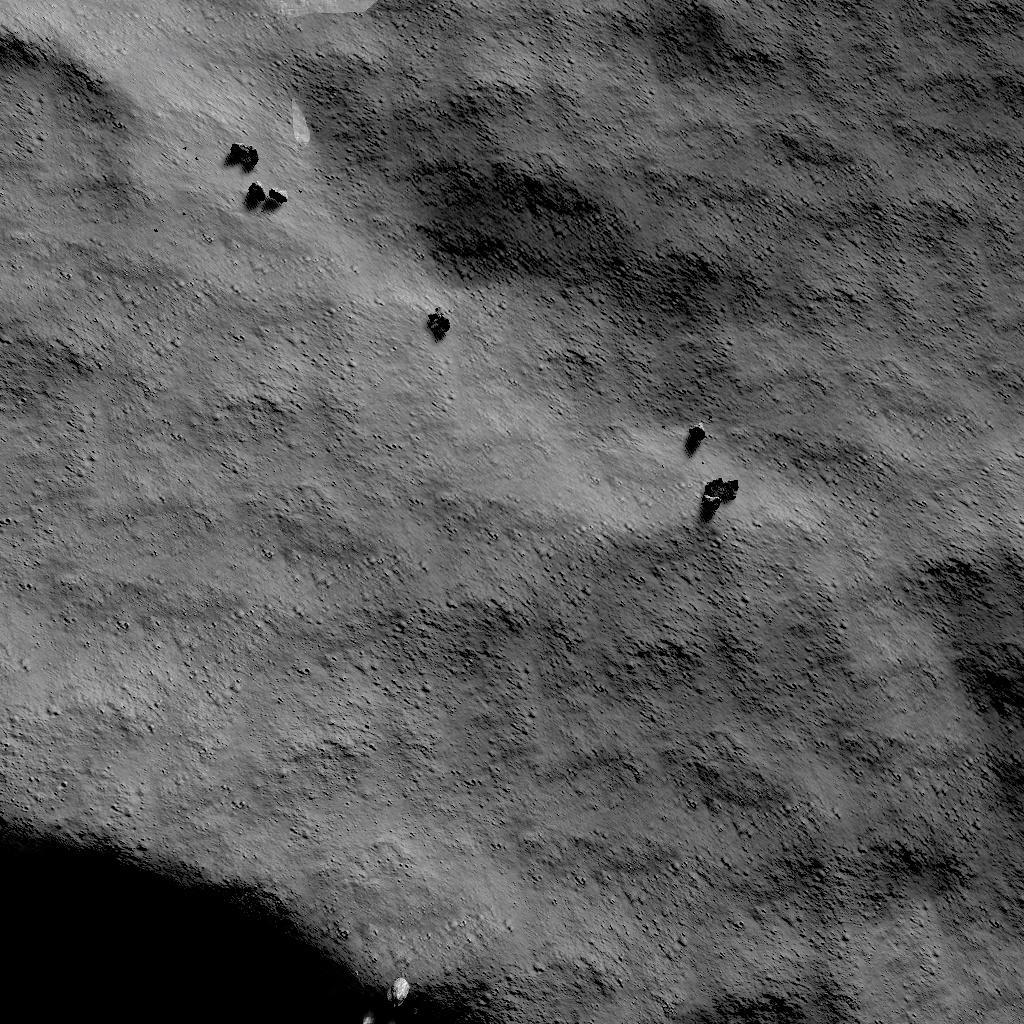Crater: (0, 798, 506, 1024), (0, 18, 149, 374)
Plan surface: (0, 382, 647, 778), (459, 0, 1024, 372), (665, 538, 1024, 944)
